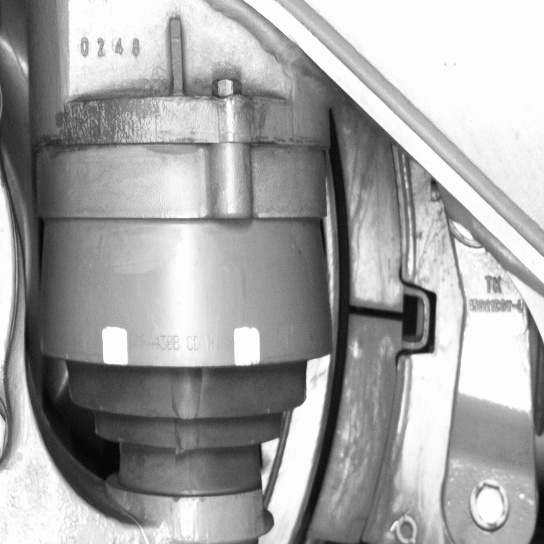KnifeSwitch: (285, 143, 415, 542)
